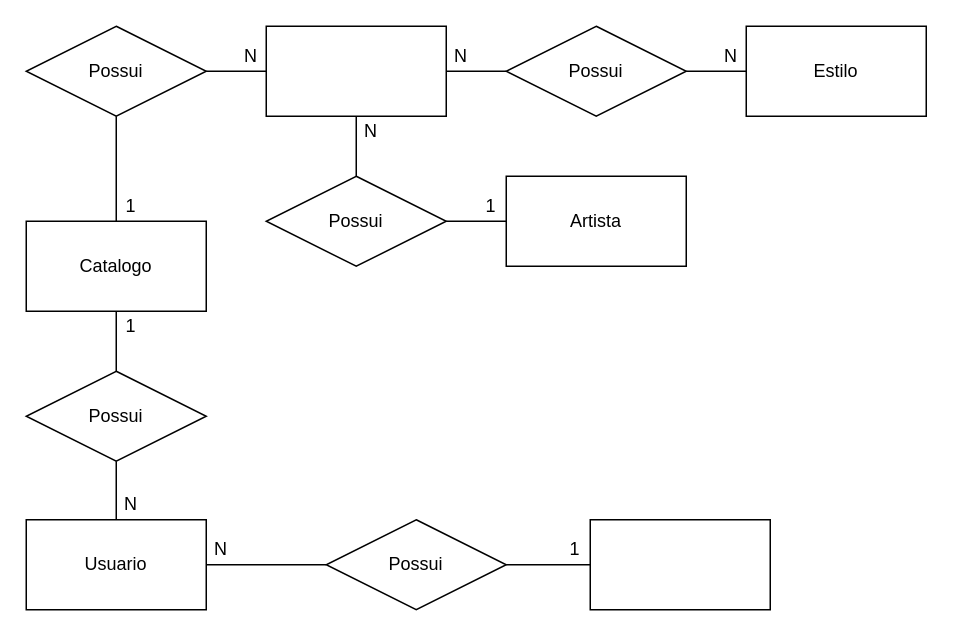
The diagram is 953 pixels wide and 636 high, and some of its shapes have lost their labels. Here are the shapes that lost their labels. From the top down, the centre of each, then its label:
At (355,70): "Album".
At (679,564): "Tipo de permissão".
